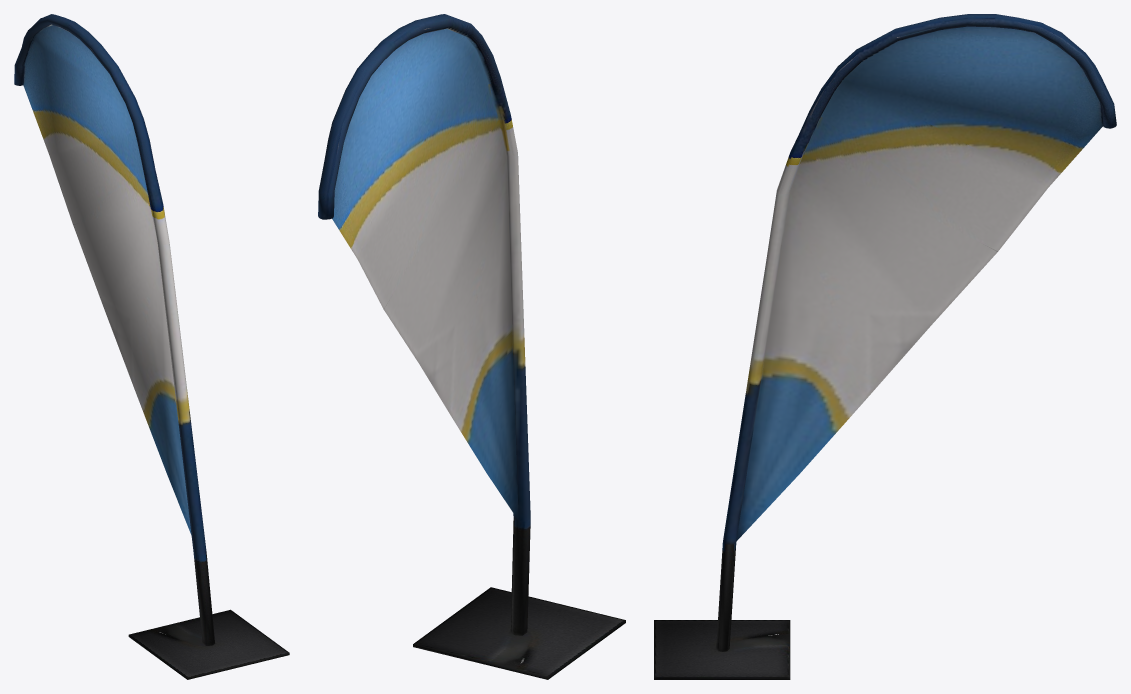
Rendered from flag_3d_model.fbx.
The picture shows the model from 3 angles, left to right: view 1: azimuth 30°, elevation 25°; view 2: azimuth 150°, elevation 25°; view 3: azimuth 270°, elevation 25°; orthographic projection. The views are drawn at different scales.
Visible parts, largest first — view 1: tripo_node_946def8a; view 2: tripo_node_946def8a; view 3: tripo_node_946def8a.
Boxes of the visible parts, bbox=[...] form: tripo_node_946def8a: bbox=[14, 14, 289, 679]; tripo_node_946def8a: bbox=[318, 14, 625, 679]; tripo_node_946def8a: bbox=[654, 14, 1116, 679].
Bounding box in the file's own units: 0.1973 × 0.998 × 0.6699.
